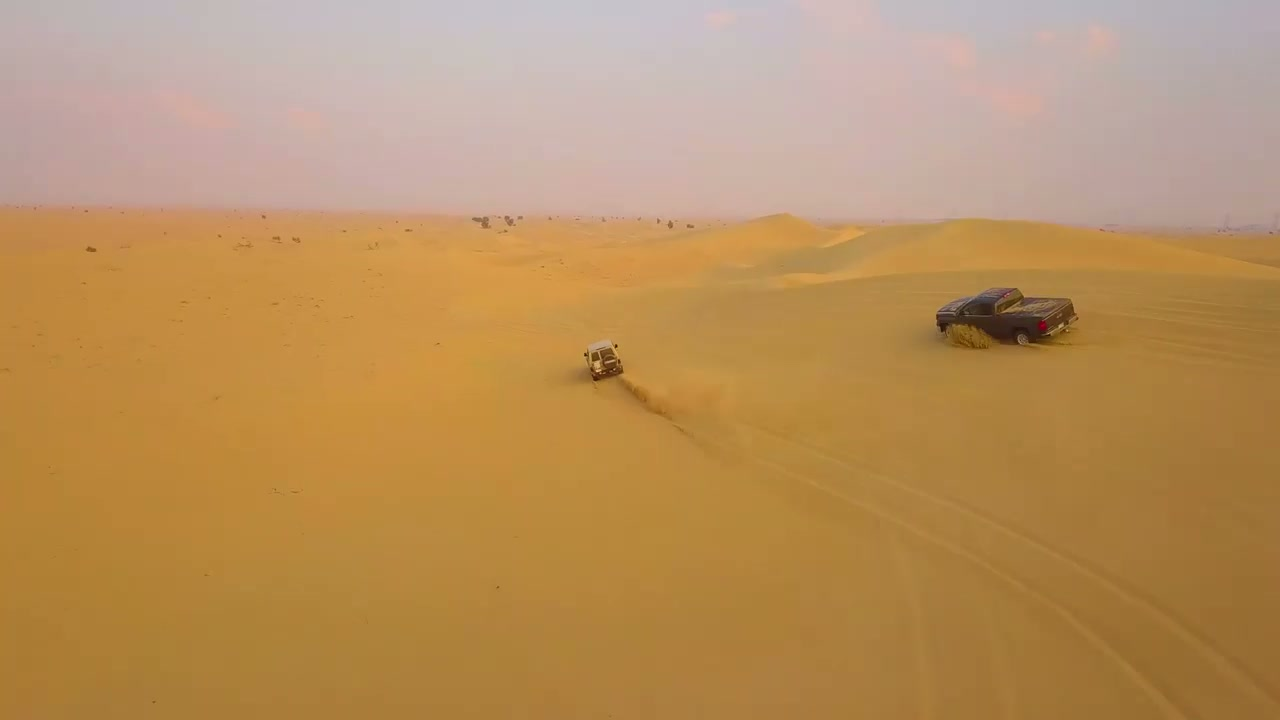vehicle_track: (667, 418, 1279, 719), (746, 424, 1279, 716)
